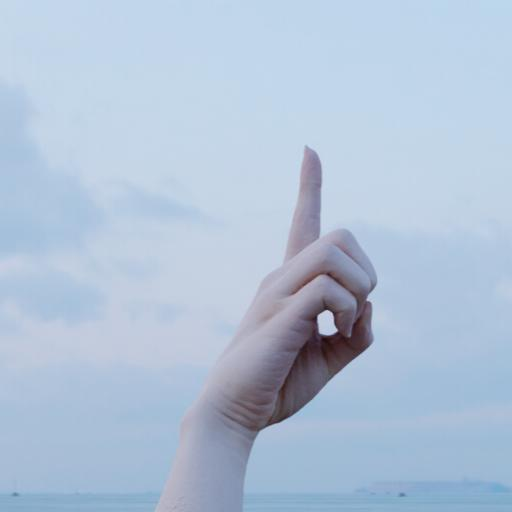D: (152, 130, 386, 512)
